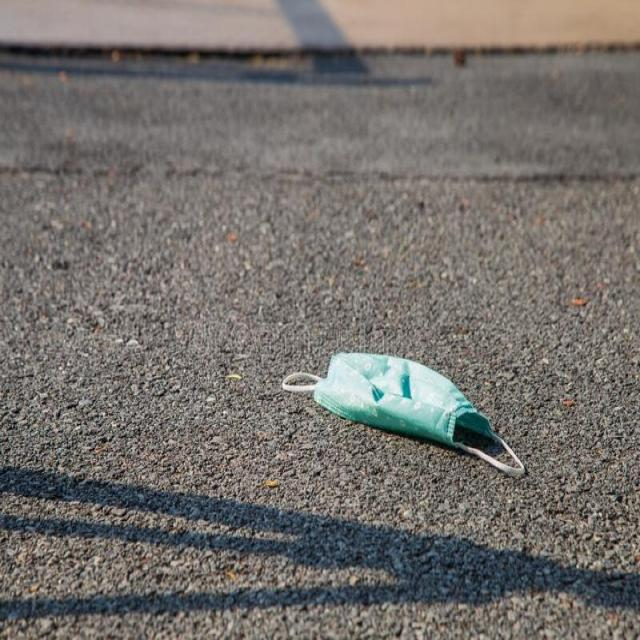non-organic waste: (282, 347, 524, 483)
